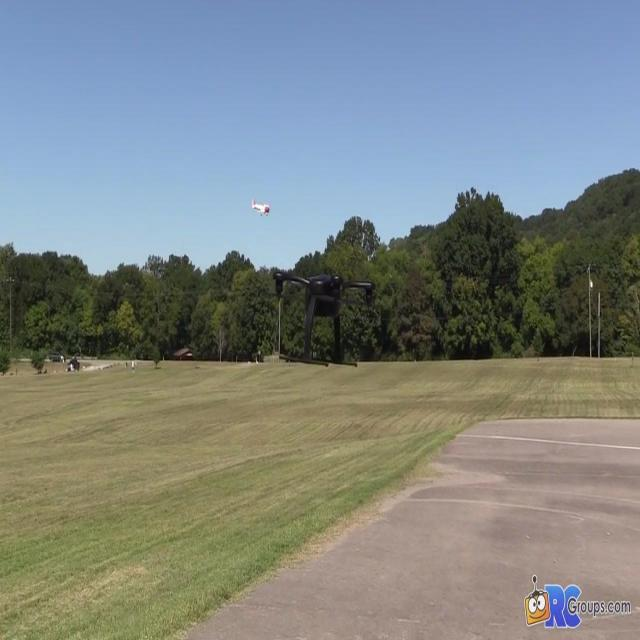UAV: (272, 271, 376, 367)
